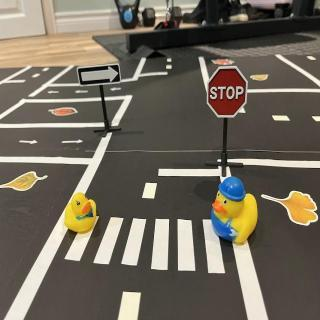duck_regular: (65, 193, 100, 237)
duck_specialty: (211, 177, 259, 246)
road_crosswalk: (61, 216, 227, 276)
road_oneway: (60, 138, 86, 148), (18, 139, 42, 148), (75, 88, 91, 96), (48, 89, 62, 97), (108, 87, 124, 93)
sign_oneway_right: (78, 64, 123, 88)
sign_stop: (209, 69, 247, 119)
